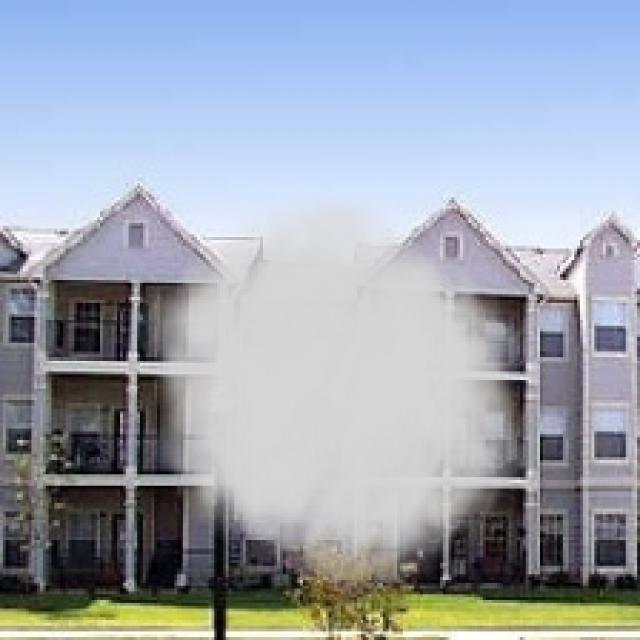smoke: (132, 180, 532, 606)
